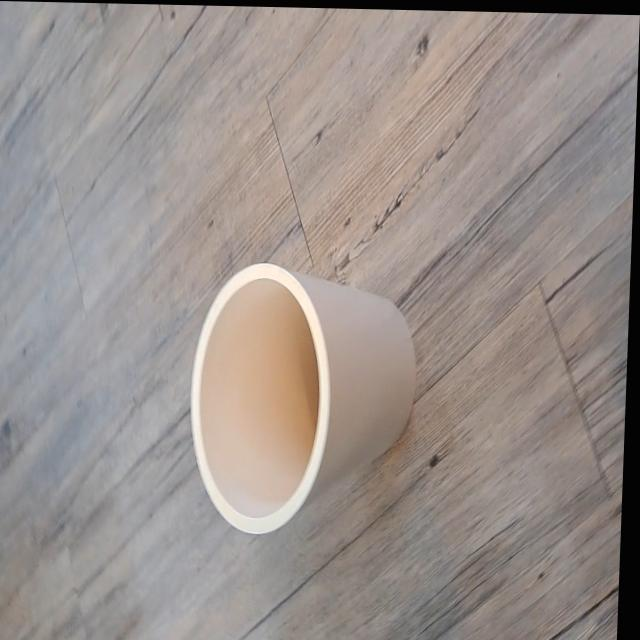CORAL: (160, 226, 448, 567)
